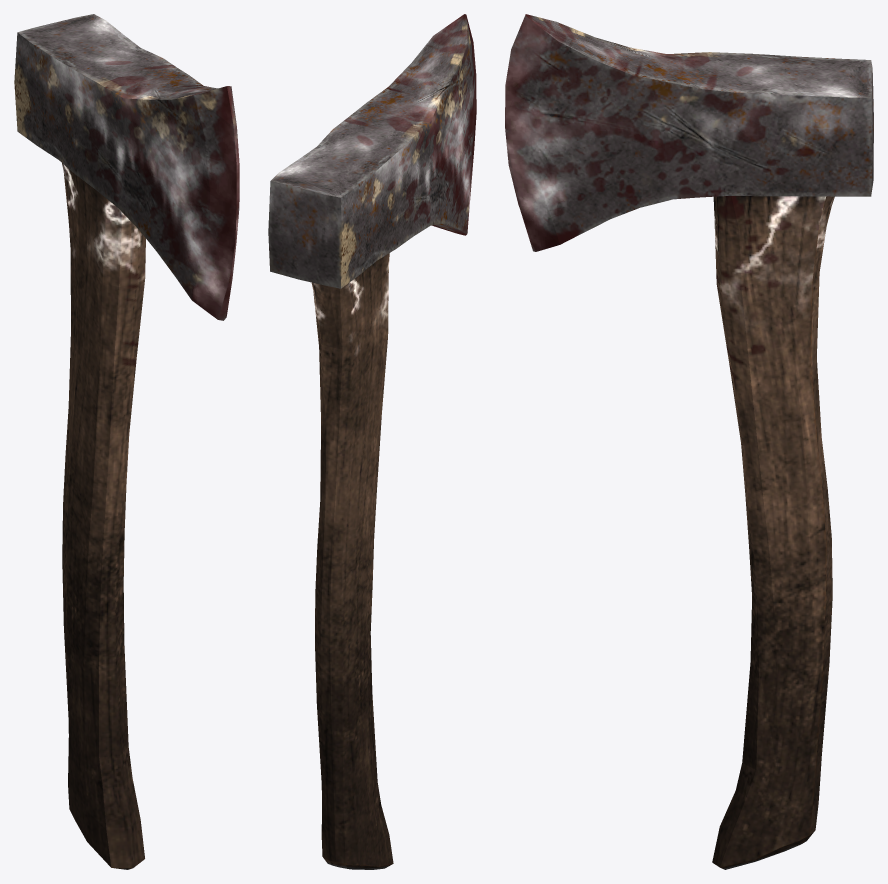
Rendered from Weapon_Throw.fbx.
The picture shows the model from 3 angles, left to right: view 1: azimuth 30°, elevation 25°; view 2: azimuth 150°, elevation 25°; view 3: azimuth 270°, elevation 25°; orthographic projection. The views are drawn at different scales.
Visible parts, largest first — view 1: BE_SW01_REF.mo; view 2: BE_SW01_REF.mo; view 3: BE_SW01_REF.mo.
Boxes of the visible parts, bbox=[...] form: BE_SW01_REF.mo: bbox=[14, 14, 239, 869]; BE_SW01_REF.mo: bbox=[268, 14, 476, 869]; BE_SW01_REF.mo: bbox=[505, 14, 873, 869].
Size of the model in its own units: 6.09 by 61.46 by 24.08.
